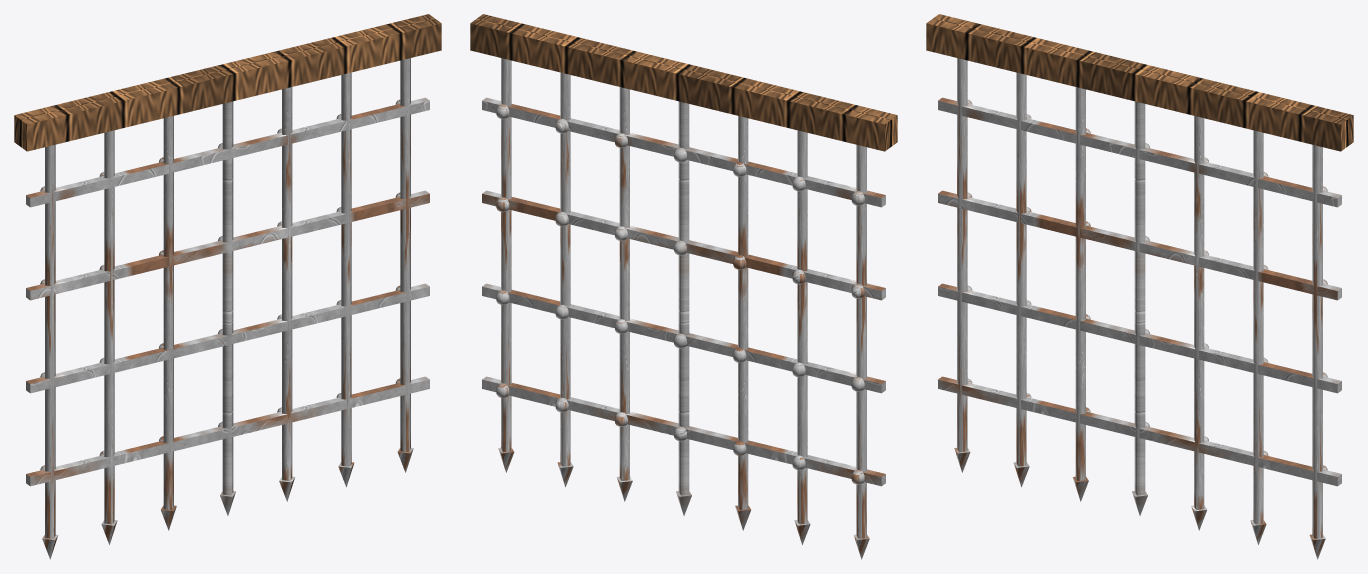
File: portcullis.obj
3 views of the same model, side by side, from view 1: azimuth 30°, elevation 25°; view 2: azimuth 150°, elevation 25°; view 3: azimuth 330°, elevation 25° (orthographic).
Size of the model in its own units: 5.6 by 5.77 by 0.306.
2 materials, 2 textured.
